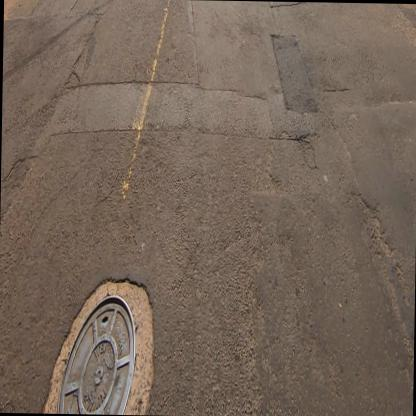manholes: (38, 263, 154, 415)
